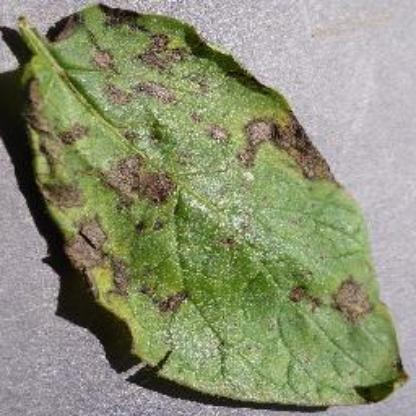Early-Blight: (9, 7, 410, 409)
